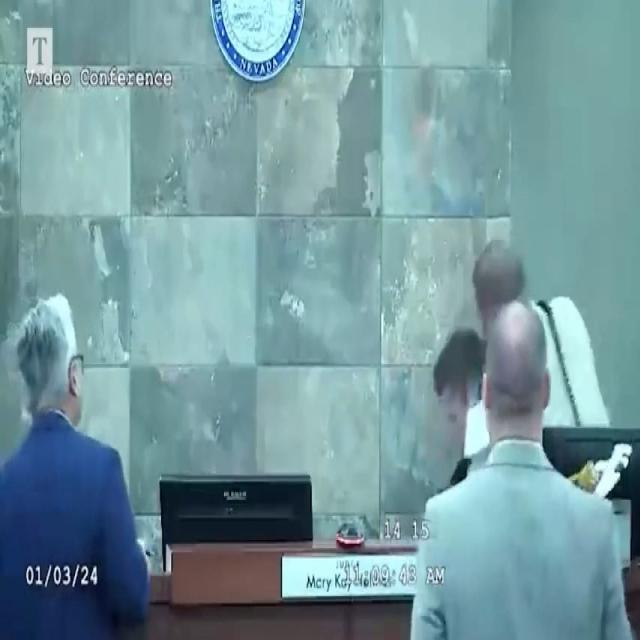fight: (425, 182, 615, 460)
non-fight: (403, 292, 640, 640), (0, 284, 152, 640)
